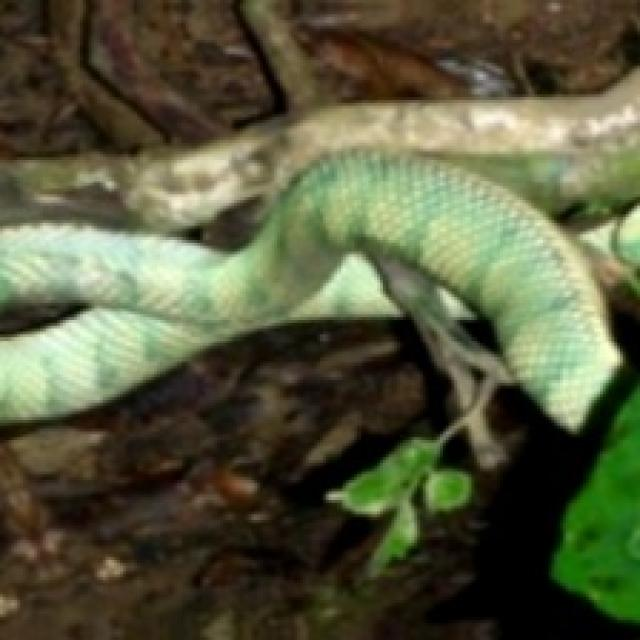north ph temple pitviper: (0, 151, 620, 426)
